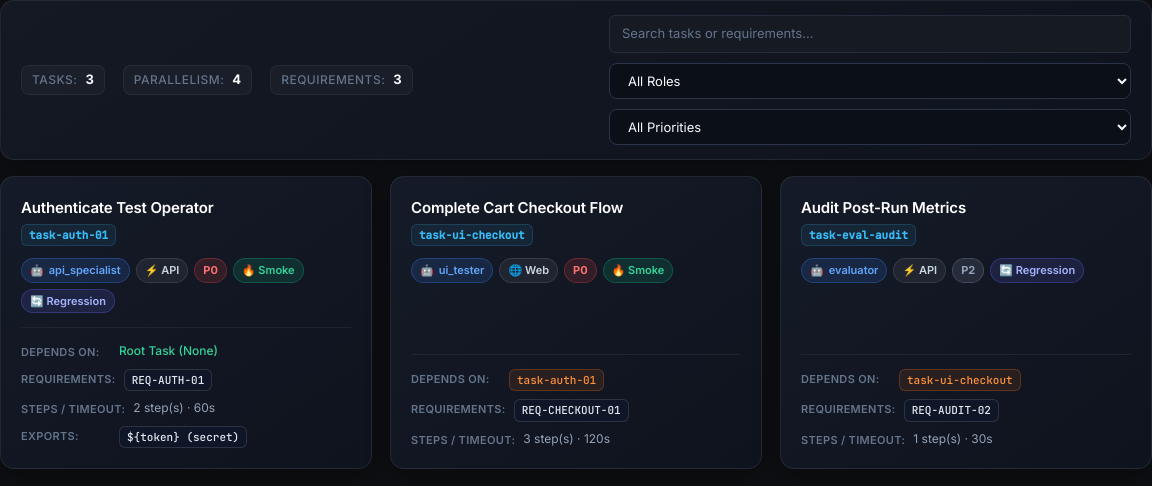
Test: TASK 9: Mission Planning, DAG Review, Approval and Monitoring › MissionDetail & DAGView (Draft Review, Approval & Execution Dispatch) › filters tasks interactively inside DAGView by role and query text
Expected: the 1st text "task-auth-01" is shown, [21, 224, 116, 246]
Expected: the 1st text "task-ui-checkout" is shown, [411, 224, 533, 246]
Note: Search for 'checkout'
Type "checkout" into the search field named "Filter tasks".
click(870, 34); type("checkout")  # box [609, 15, 1131, 52]
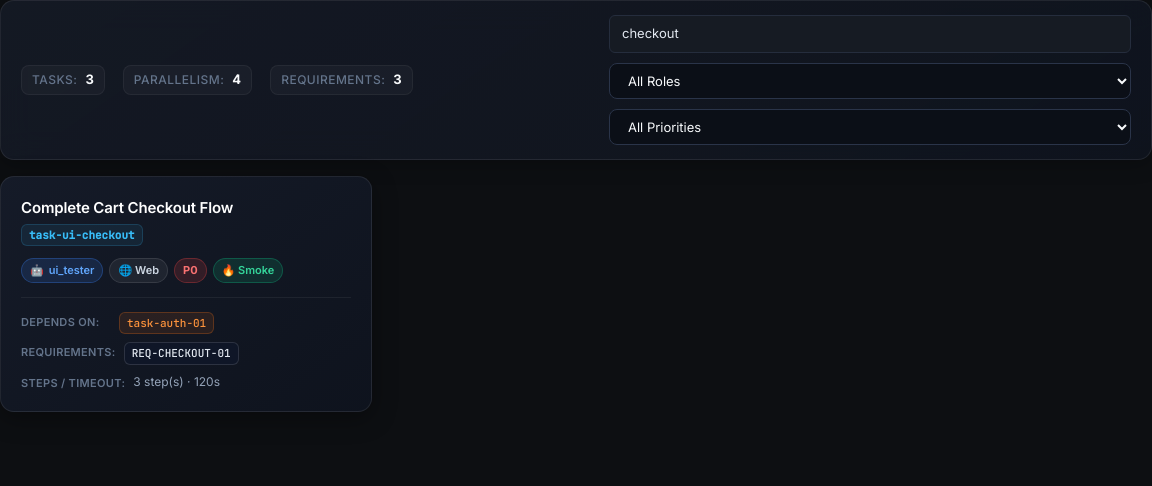
Expected: the text "task-ui-checkout" is shown, [21, 224, 143, 246]
Now the button "task-eval-audit" is gone
